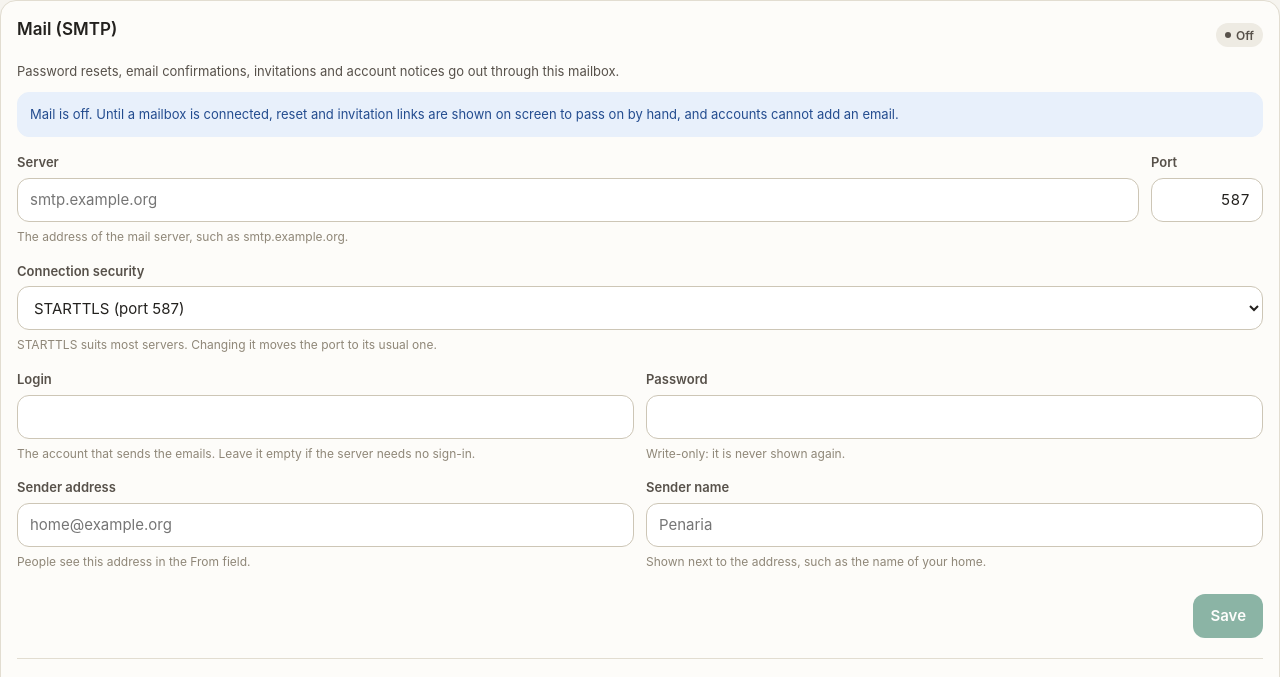
Test: MailboxCard › checks the fields before saving
This screenshot has width=1280, height=677.
Replace the text in the field labelled "Port" with "70000". click: [1207, 200]
box: [1151, 178, 1263, 222]
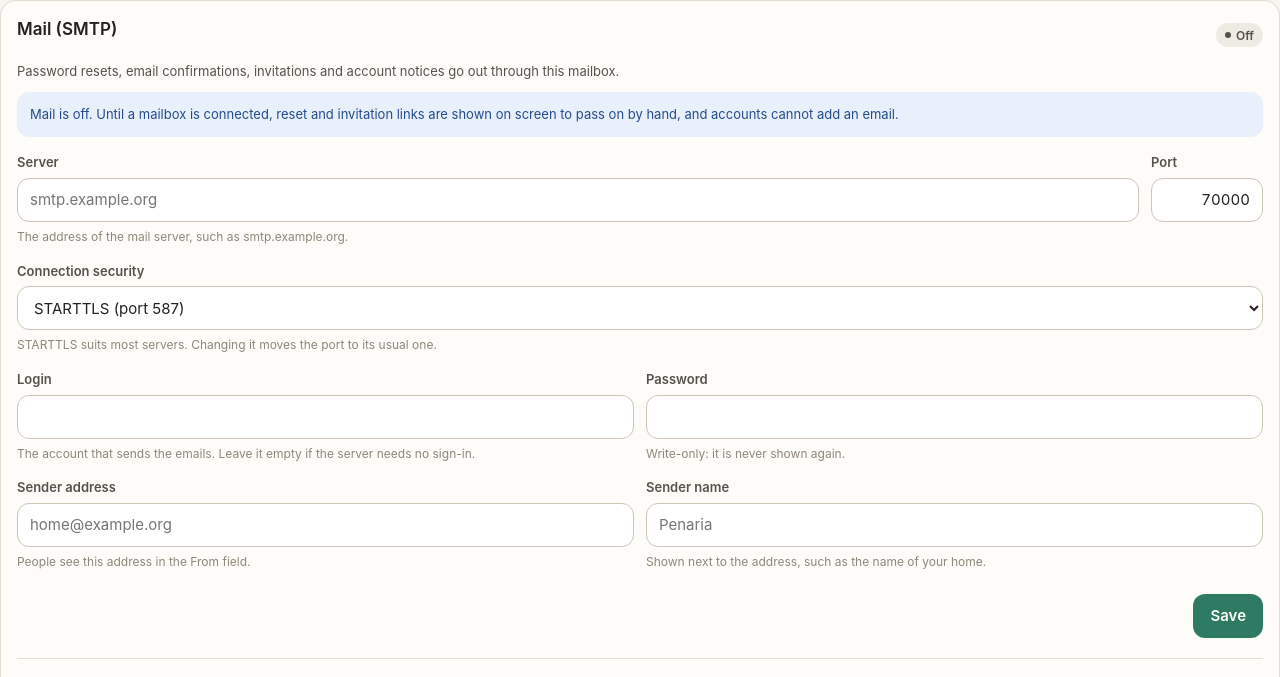
Type "home" into the field labelled "Sender address". click: [326, 525]
box: [17, 503, 634, 547]
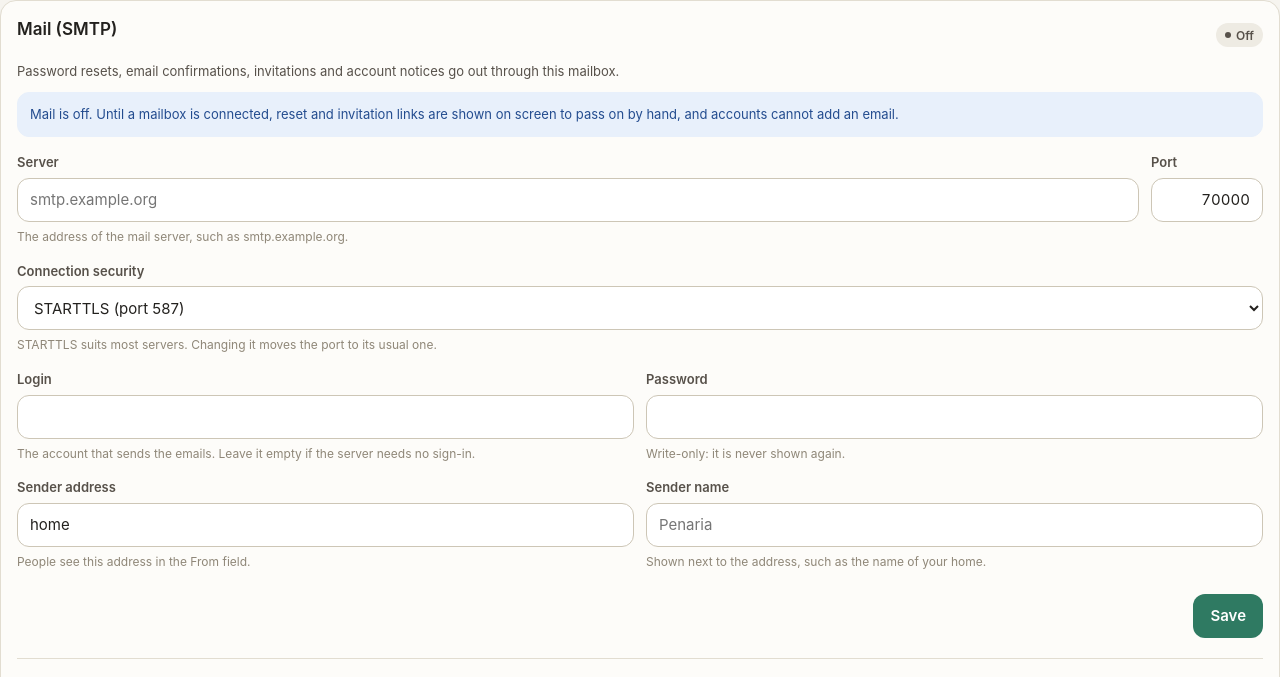
Click the button "Save". click: [1228, 616]
box: [1194, 594, 1263, 638]
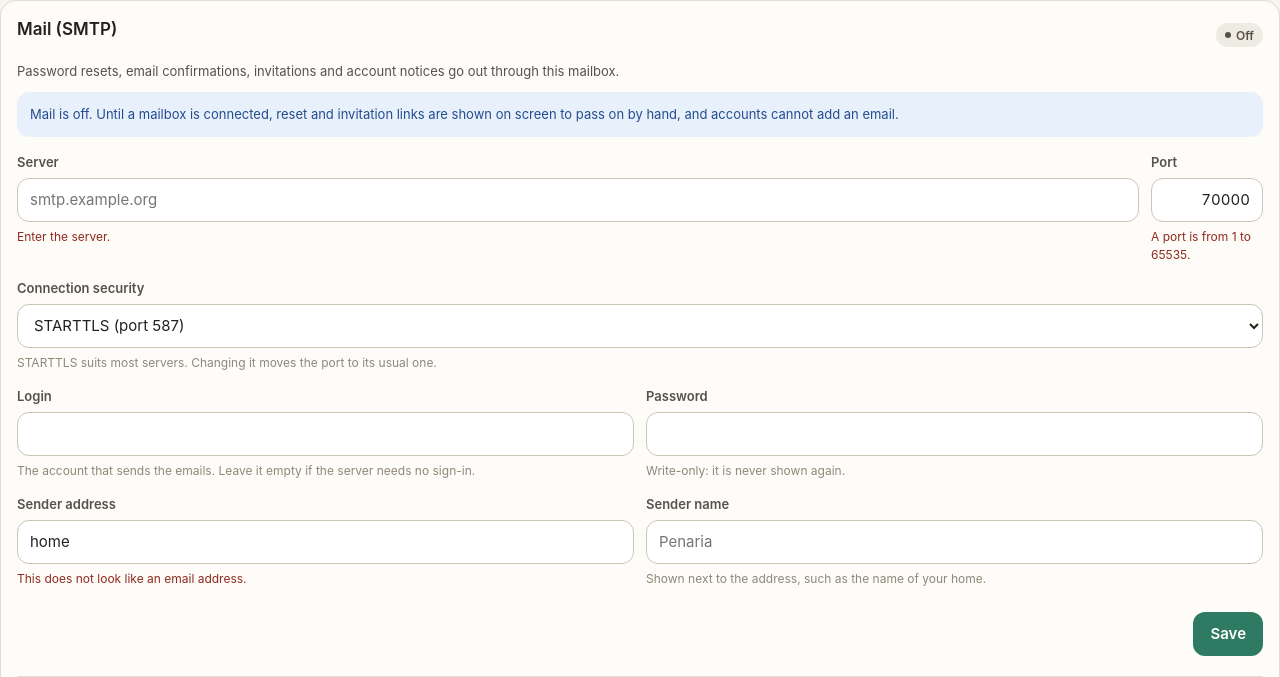
expect the text "Enter the server." is shown: met, box [17, 229, 110, 244]
expect the text "A port is from 1 to 65535." is shown: met, box [1151, 228, 1263, 263]
expect the text "This does not look like an email address." is shown: met, box [17, 571, 247, 586]
